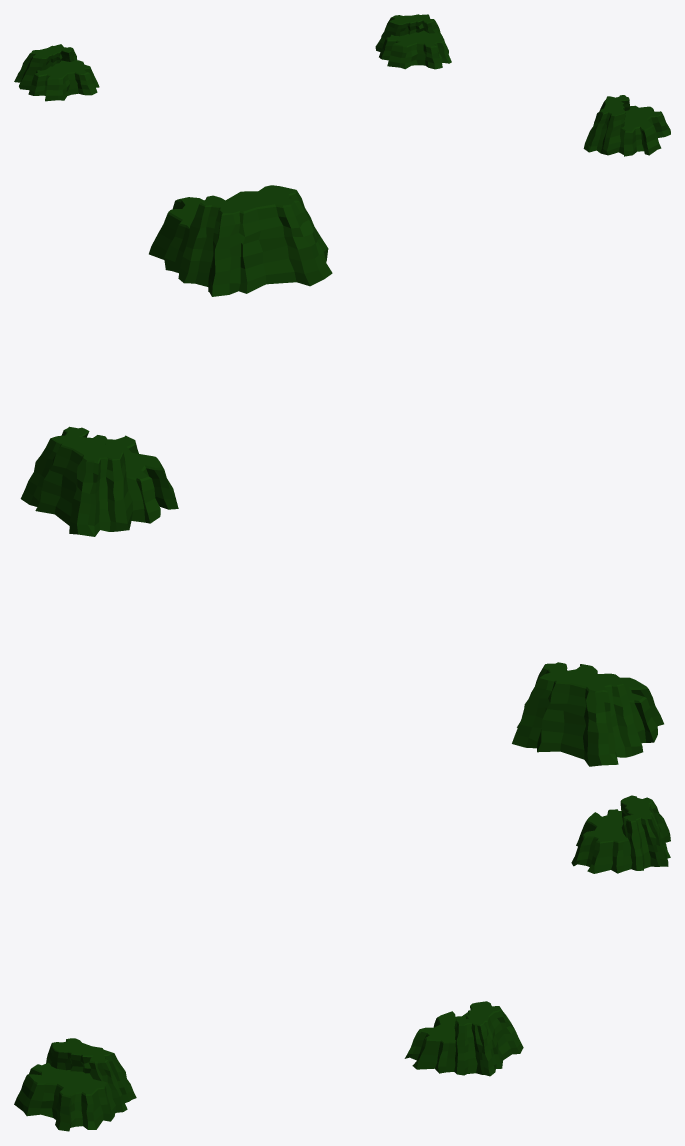
The model's file is Cliff_3.glb.
The picture shows the model from 3 angles, top to bottom: view 1: azimuth 30°, elevation 25°; view 2: azimuth 150°, elevation 25°; view 3: azimuth 270°, elevation 25°; orthographic projection. The views are drawn at different scales.
Parts seen in each view (by area): view 1: Cliff_3.003; view 2: Cliff_3.003; view 3: Cliff_3.003.
Part boxes in pixels (box(x1,y1,x2,y2)): Cliff_3.003: box(14, 14, 670, 156); Cliff_3.003: box(20, 185, 663, 766); Cliff_3.003: box(14, 795, 670, 1131).
Bounding box in the file's own units: 484 × 37.42 × 445.
